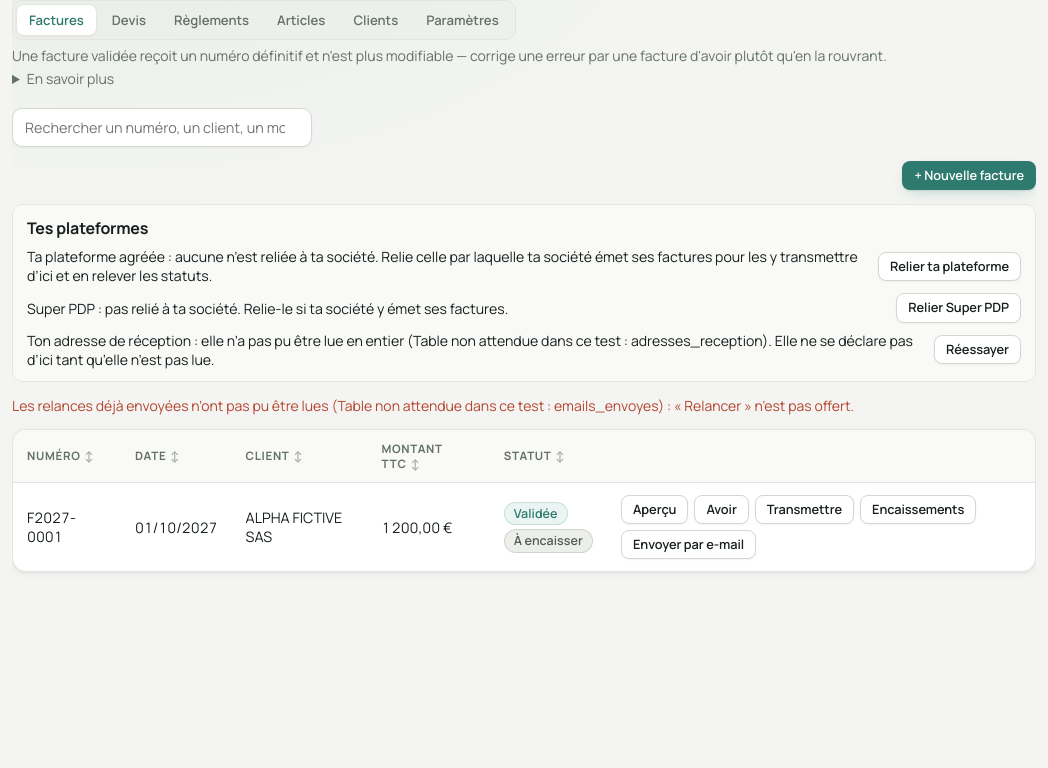
Scenario: Paramètres dans l’onglet Factures — qui est le client › au client : les accès ne sont pas lus, rien n’est dit « par le client »
This screenshot has width=1048, height=768.
Check: the text "F2027-0001" is shown, box [27, 508, 76, 546]
Click the tab "Paramètres".
click(462, 20)  # box [413, 4, 512, 36]
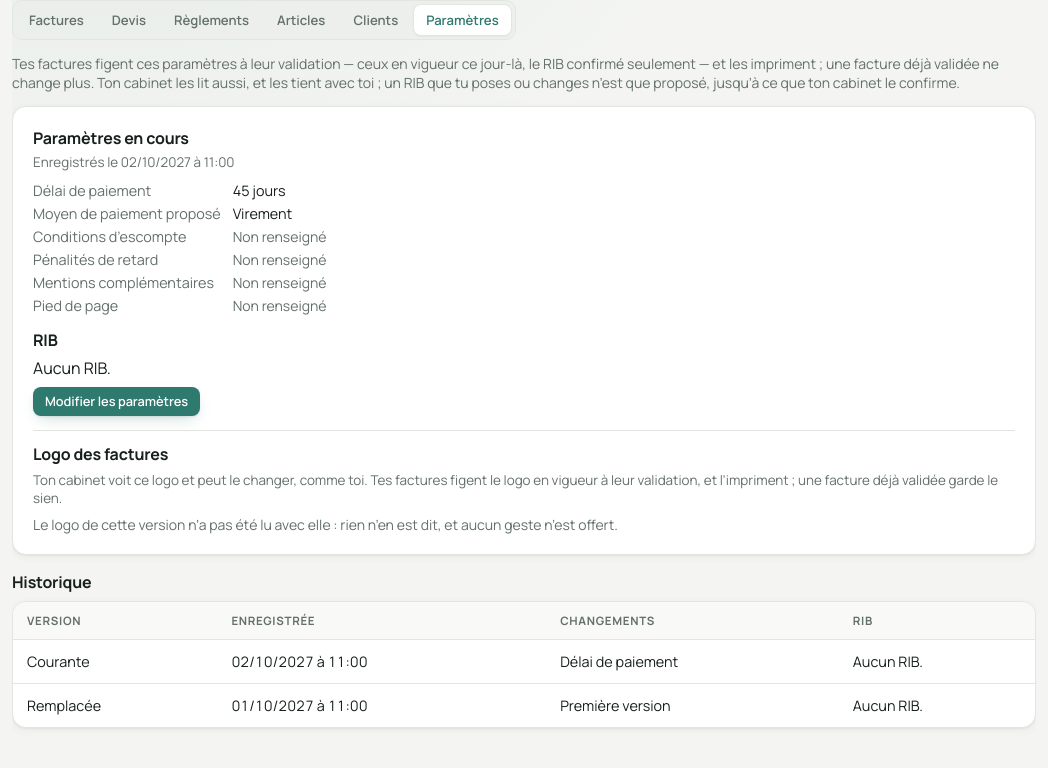
Check: the heading "Paramètres en cours" is shown, box [33, 127, 189, 149]
